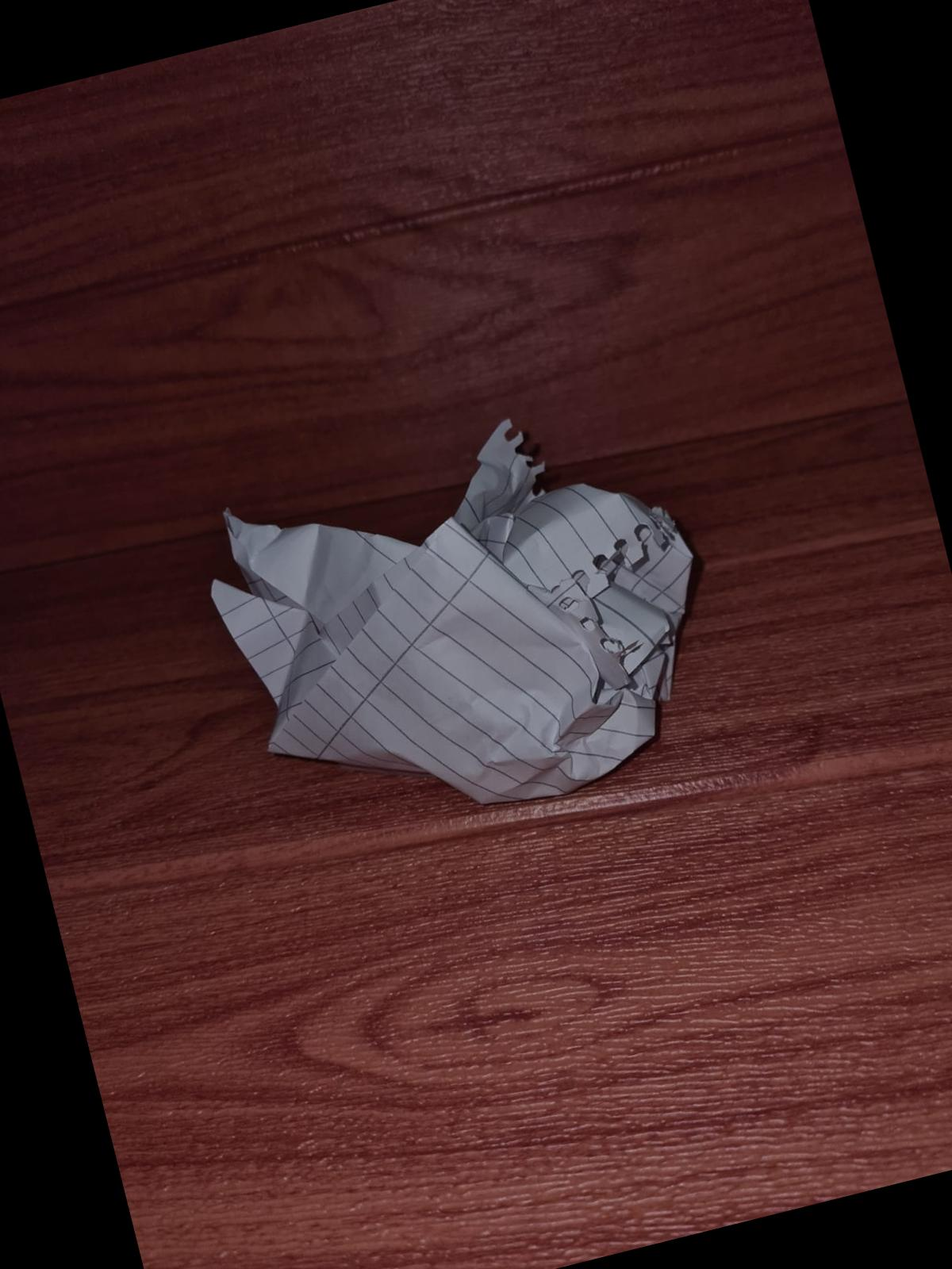Kertas: (213, 433, 690, 799)
